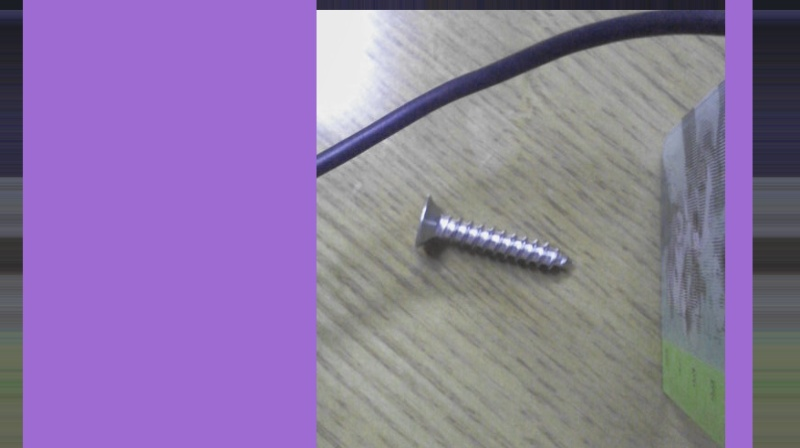S001: (412, 191, 574, 278)
